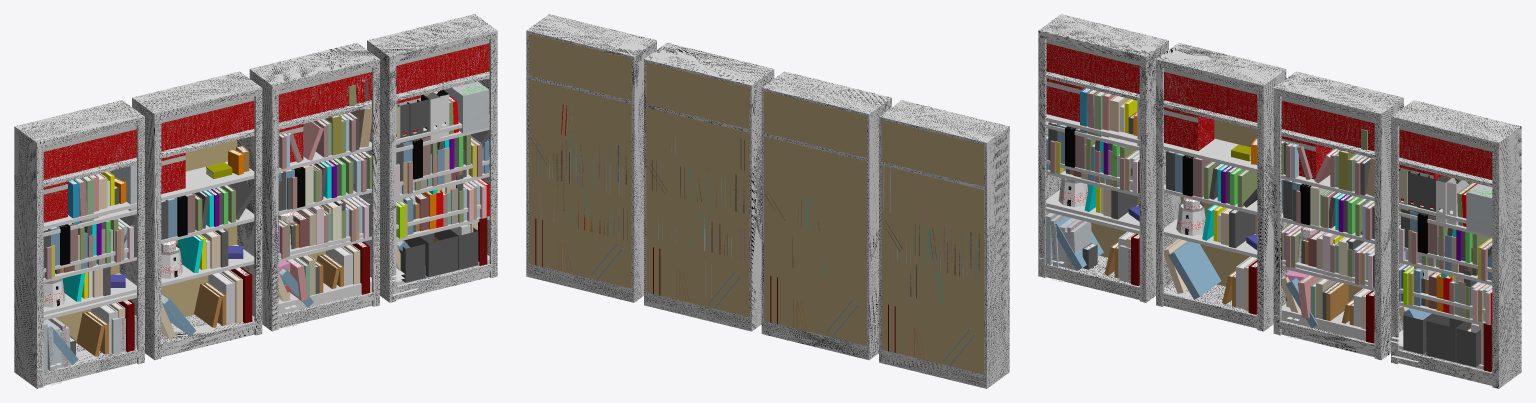
The model's file is Bookcase.fbx.
3 views of the same model, side by side, from view 1: azimuth 30°, elevation 25°; view 2: azimuth 150°, elevation 25°; view 3: azimuth 330°, elevation 25° (orthographic).
Parts seen in each view (by area): view 1: instance_0, instance_181, instance_65, instance_237, group_3.001, instance_247.001, group_3, group_3.002, instance_186.001, instance_112.001, instance_150, instance_68 (+12 smaller); view 2: instance_181, instance_0, instance_237, instance_65, instance_181.001, instance_237.001, instance_65.002, instance_181.002, instance_65.001; view 3: instance_0, instance_181, instance_237, instance_65, group_3.001, instance_247.001, group_3.002, group_3, instance_102.001, instance_246, instance_150, instance_68 (+11 smaller).
Part boxes in pixels (x1,y1,x2,y2): instance_0: (132,71,262,360); instance_181: (14,100,144,388); instance_65: (249,42,379,331); instance_237: (367,14,497,302); group_3.001: (416,229,457,277); instance_247.001: (443,88,489,133); group_3: (398,237,425,282); group_3.002: (449,227,478,269); instance_186.001: (110,164,136,211); instance_112.001: (303,121,323,160); instance_150: (43,293,136,320); instance_68: (278,277,371,307); instance_181: (879,100,1009,388); instance_0: (761,71,891,360); instance_237: (526,14,656,302); instance_65: (644,42,774,331); instance_181.001: (881,170,982,371); instance_237.001: (529,84,631,262); instance_65.002: (646,62,749,129); instance_181.002: (881,121,984,184); instance_65.001: (707,191,749,316); instance_0: (1156,42,1286,331); instance_181: (1038,14,1168,302); instance_237: (1391,100,1521,388); instance_65: (1273,71,1403,360); group_3.001: (1426,314,1464,362); instance_247.001: (1466,192,1492,235); group_3.002: (1456,322,1480,367); group_3: (1403,313,1434,354); instance_102.001: (1326,283,1348,320); instance_246: (1446,178,1468,225); instance_150: (1046,206,1139,234); instance_68: (1281,303,1374,335).
Bounding box in the file's own units: 14100 × 7200 × 1313.
